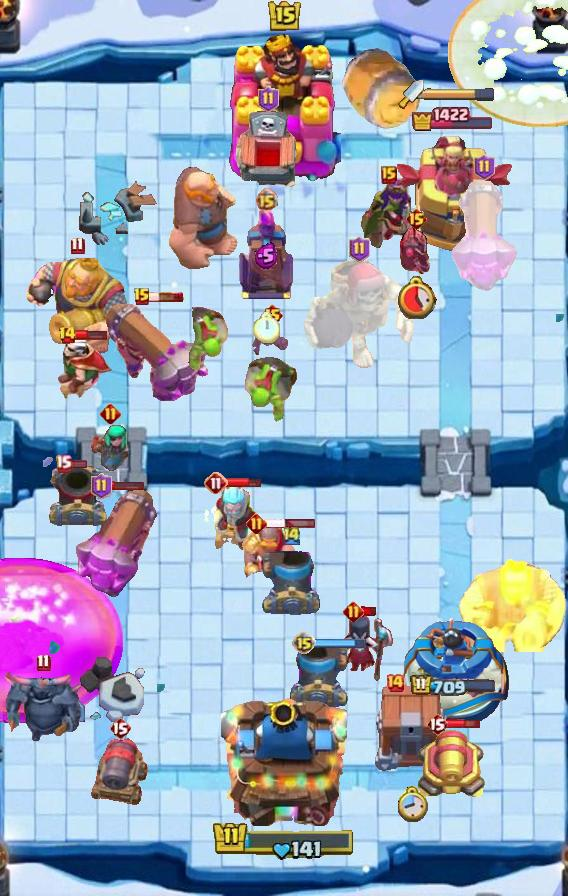balloon: (165, 163, 239, 271)
bar: (391, 132, 515, 256)
bar-level: (242, 354, 300, 426), (180, 307, 230, 373)
barbarian-barrel: (252, 328, 292, 356)
barbarian-hut: (349, 173, 429, 251)
battle-ram: (395, 224, 437, 278)
bomb: (372, 686, 450, 772)
clock: (212, 820, 356, 862)
dirt: (337, 45, 423, 133)
electro-giant: (301, 257, 417, 371)
electro-spirit: (254, 242, 278, 270)
elixir: (395, 275, 437, 319), (395, 784, 429, 822), (253, 312, 280, 343)
elixir-golem-mid: (233, 110, 303, 196)
emote: (314, 638, 366, 650), (264, 518, 316, 529), (226, 475, 262, 488), (446, 718, 481, 731), (148, 291, 184, 303), (74, 329, 107, 341), (110, 481, 146, 492), (68, 459, 88, 469), (361, 607, 378, 618)
firecracker: (242, 522, 296, 578)
furnace: (103, 299, 209, 405), (72, 485, 158, 609), (450, 176, 518, 296)
giant-skeleton: (21, 254, 135, 358), (458, 558, 568, 652)
golemite: (0, 667, 86, 743)
ice-spirit-evolution-symbol: (236, 209, 296, 301)
king-tower: (227, 29, 341, 181), (221, 690, 347, 826)
king-tower-bar: (424, 87, 496, 101)
knight-evolution: (0, 557, 124, 724)
mortar: (201, 481, 265, 553)
musketeer: (47, 462, 109, 530), (262, 551, 322, 615), (288, 644, 348, 708)
phoenix-big: (448, 1, 568, 128)
queen-tower: (395, 614, 514, 730)
rascal-boy: (336, 613, 394, 683)
royal-giant-evolution: (91, 736, 149, 806)
royal-recruit: (416, 729, 488, 803)
selected: (411, 106, 495, 132), (411, 674, 498, 698)
skeleton-king: (38, 334, 116, 402)
text: (204, 471, 228, 495), (292, 631, 316, 655), (257, 86, 279, 112), (404, 207, 427, 231), (260, 303, 283, 327), (474, 154, 495, 180), (350, 236, 371, 262), (91, 473, 112, 499), (255, 188, 278, 211), (426, 712, 448, 736), (109, 716, 131, 740), (99, 404, 121, 425), (245, 513, 266, 534), (343, 602, 364, 623), (282, 525, 302, 546), (385, 673, 405, 693), (58, 325, 77, 345), (133, 287, 151, 307), (55, 455, 73, 473), (381, 166, 397, 184), (71, 237, 85, 256), (37, 652, 51, 671)
witch: (88, 425, 132, 475)
